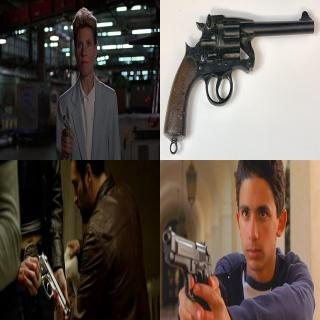gun: (159, 5, 315, 145), (161, 223, 223, 319), (24, 250, 70, 316), (62, 113, 72, 154)
